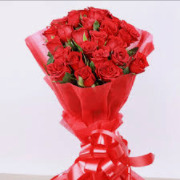RedRose: (46, 61, 71, 83), (97, 64, 123, 84), (74, 66, 94, 89), (130, 54, 151, 75), (54, 45, 71, 66), (113, 49, 131, 68), (45, 35, 63, 54), (65, 51, 84, 68), (101, 19, 119, 36), (106, 36, 124, 51), (72, 29, 87, 45), (90, 29, 105, 45), (80, 41, 96, 53)
